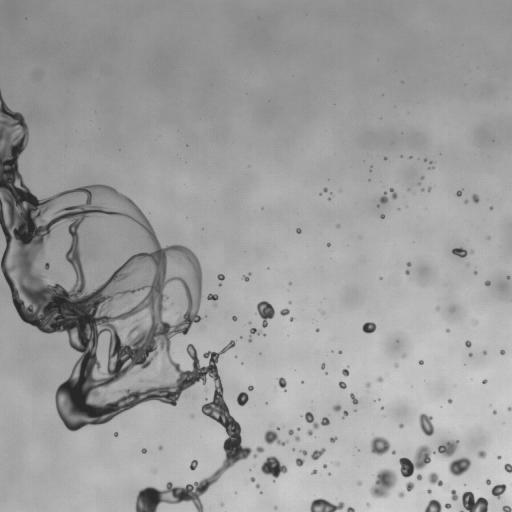droplet: (370, 468, 397, 498), (304, 412, 329, 435), (261, 456, 287, 478), (462, 492, 488, 511), (256, 301, 274, 327), (448, 457, 470, 476), (370, 436, 390, 455), (437, 440, 458, 457), (419, 413, 434, 436), (264, 430, 287, 445), (491, 484, 506, 498), (424, 499, 441, 511), (428, 472, 442, 486), (248, 328, 260, 341), (311, 448, 325, 459), (362, 322, 375, 333), (237, 392, 248, 405), (452, 248, 467, 257), (277, 377, 286, 390), (380, 192, 388, 203), (207, 293, 218, 301), (451, 489, 458, 500), (406, 482, 414, 491), (190, 460, 197, 470), (504, 463, 511, 473), (296, 458, 304, 466), (472, 194, 479, 203), (42, 262, 49, 271), (280, 308, 289, 315), (342, 367, 349, 376), (333, 404, 341, 411), (478, 451, 486, 458), (502, 505, 511, 511), (339, 381, 346, 388), (217, 274, 224, 280), (242, 275, 249, 281), (342, 410, 347, 418), (465, 341, 471, 347), (300, 450, 307, 455), (346, 507, 354, 511), (484, 280, 490, 285), (377, 377, 383, 382), (248, 385, 253, 391), (330, 437, 336, 442), (416, 474, 421, 480), (486, 479, 491, 485), (398, 492, 404, 497), (445, 503, 450, 509), (296, 228, 301, 233), (365, 382, 370, 387), (288, 429, 293, 434), (457, 190, 461, 196), (311, 470, 317, 474), (500, 350, 505, 354), (321, 364, 325, 369), (482, 379, 487, 383), (295, 436, 299, 441), (142, 448, 146, 453), (250, 477, 255, 481), (323, 188, 327, 192), (380, 214, 384, 218), (405, 270, 409, 274), (232, 316, 236, 320), (419, 360, 423, 364), (448, 399, 452, 403), (399, 424, 403, 428), (357, 481, 361, 485), (427, 489, 431, 493), (428, 187, 431, 191), (407, 262, 410, 266), (114, 432, 117, 436), (158, 446, 162, 449), (323, 464, 326, 468), (99, 239, 102, 242), (327, 243, 330, 246), (290, 317, 293, 320), (316, 329, 319, 332), (446, 329, 449, 332), (483, 351, 486, 354), (394, 364, 397, 367), (508, 407, 511, 410), (493, 410, 496, 413), (190, 414, 193, 417), (256, 484, 259, 487), (498, 455, 500, 459), (424, 159, 427, 161), (465, 200, 467, 203), (219, 283, 221, 286), (436, 307, 439, 309), (263, 333, 265, 336), (339, 350, 341, 353), (469, 353, 471, 356), (392, 451, 395, 453), (220, 503, 223, 505), (430, 161, 432, 163), (421, 177, 423, 179), (421, 188, 423, 190), (490, 207, 492, 209), (337, 225, 339, 227), (470, 251, 472, 253), (474, 271, 476, 273), (507, 276, 509, 278), (336, 463, 338, 465), (367, 503, 369, 505)
ligament: (0, 89, 263, 511), (399, 444, 433, 478), (310, 498, 344, 511), (390, 188, 397, 199), (350, 393, 357, 404)
